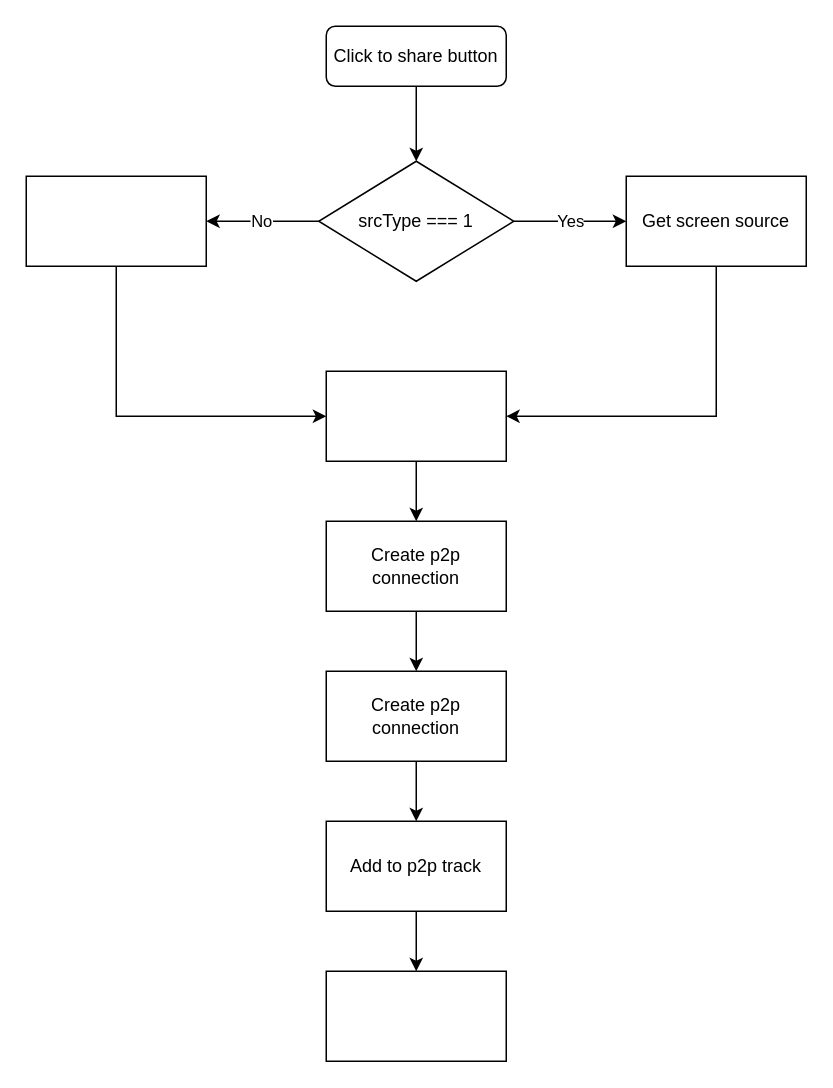
The diagram is 833 pixels wide and 1088 high, and some of its shapes have lost their labels. Here are the shapes that lost their labels. From the top down, the box of each, then its label:
(25, 175, 206, 266): Get local video source
(325, 370, 506, 461): Add to video source variable
(325, 970, 506, 1061): Display on shared devices
